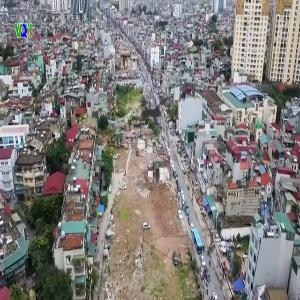drone: (92, 53, 220, 181)
